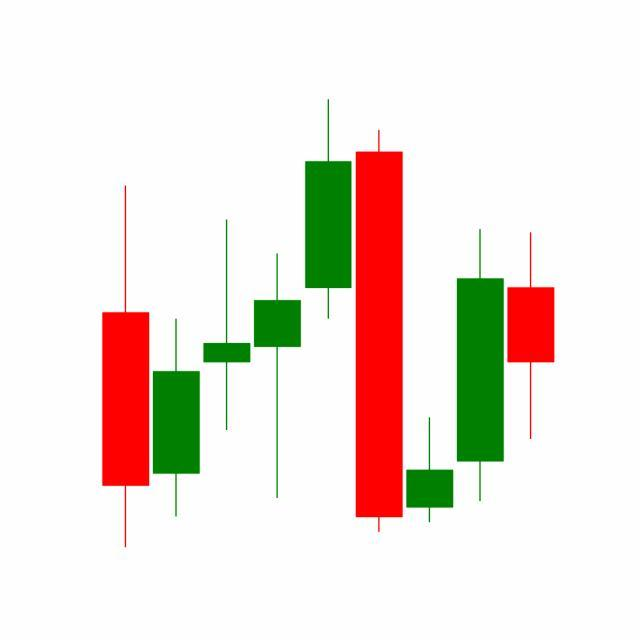Hikkake Pattern: (252, 99, 506, 537)
